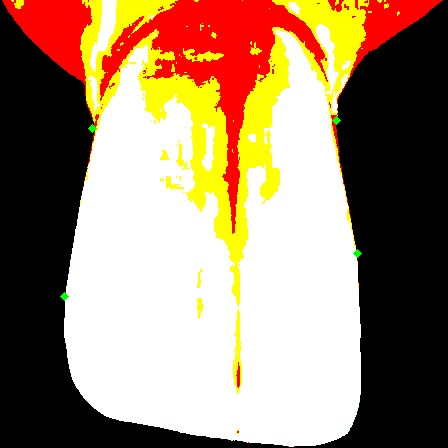coin_1: (92, 128, 112, 148)
coin_2: (64, 296, 84, 316)
coin_3: (336, 120, 356, 140)
coin_4: (357, 253, 377, 273)
